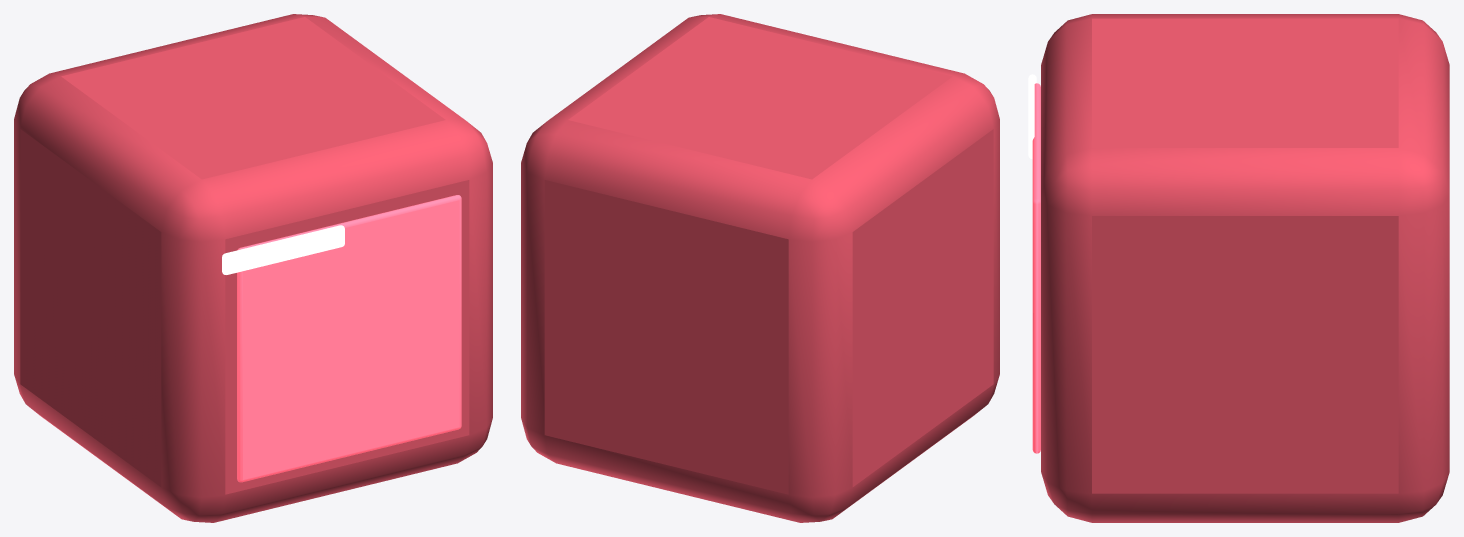
Rendered from kostka_z.glb.
3 views of the same model, side by side, from view 1: azimuth 30°, elevation 25°; view 2: azimuth 150°, elevation 25°; view 3: azimuth 270°, elevation 25° (orthographic). The views are drawn at different scales.
Visible parts, largest first — view 1: kostka_z_m, kostka_z_lesk, kostka_z_hrana; view 2: kostka_z_m; view 3: kostka_z_m, kostka_z_lesk, kostka_z_hrana.
Boxes of the visible parts, box(x1,y1,x2,y2) form: kostka_z_m: box(14, 14, 492, 522); kostka_z_lesk: box(237, 195, 461, 482); kostka_z_hrana: box(222, 225, 344, 274); kostka_z_m: box(521, 14, 999, 522); kostka_z_m: box(1041, 14, 1449, 522); kostka_z_lesk: box(1032, 83, 1040, 453); kostka_z_hrana: box(1028, 74, 1036, 159).
Size of the model in its own units: 0.96 by 0.96 by 0.99.
